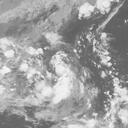cyclone: (34, 54, 90, 107)
